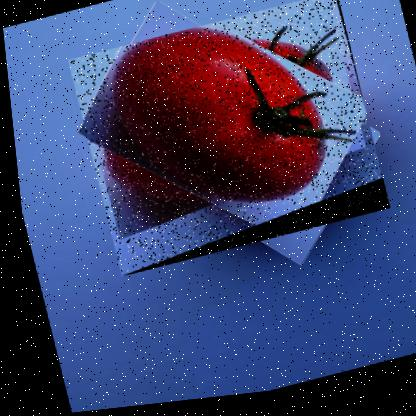tomato: (62, 0, 387, 281)
